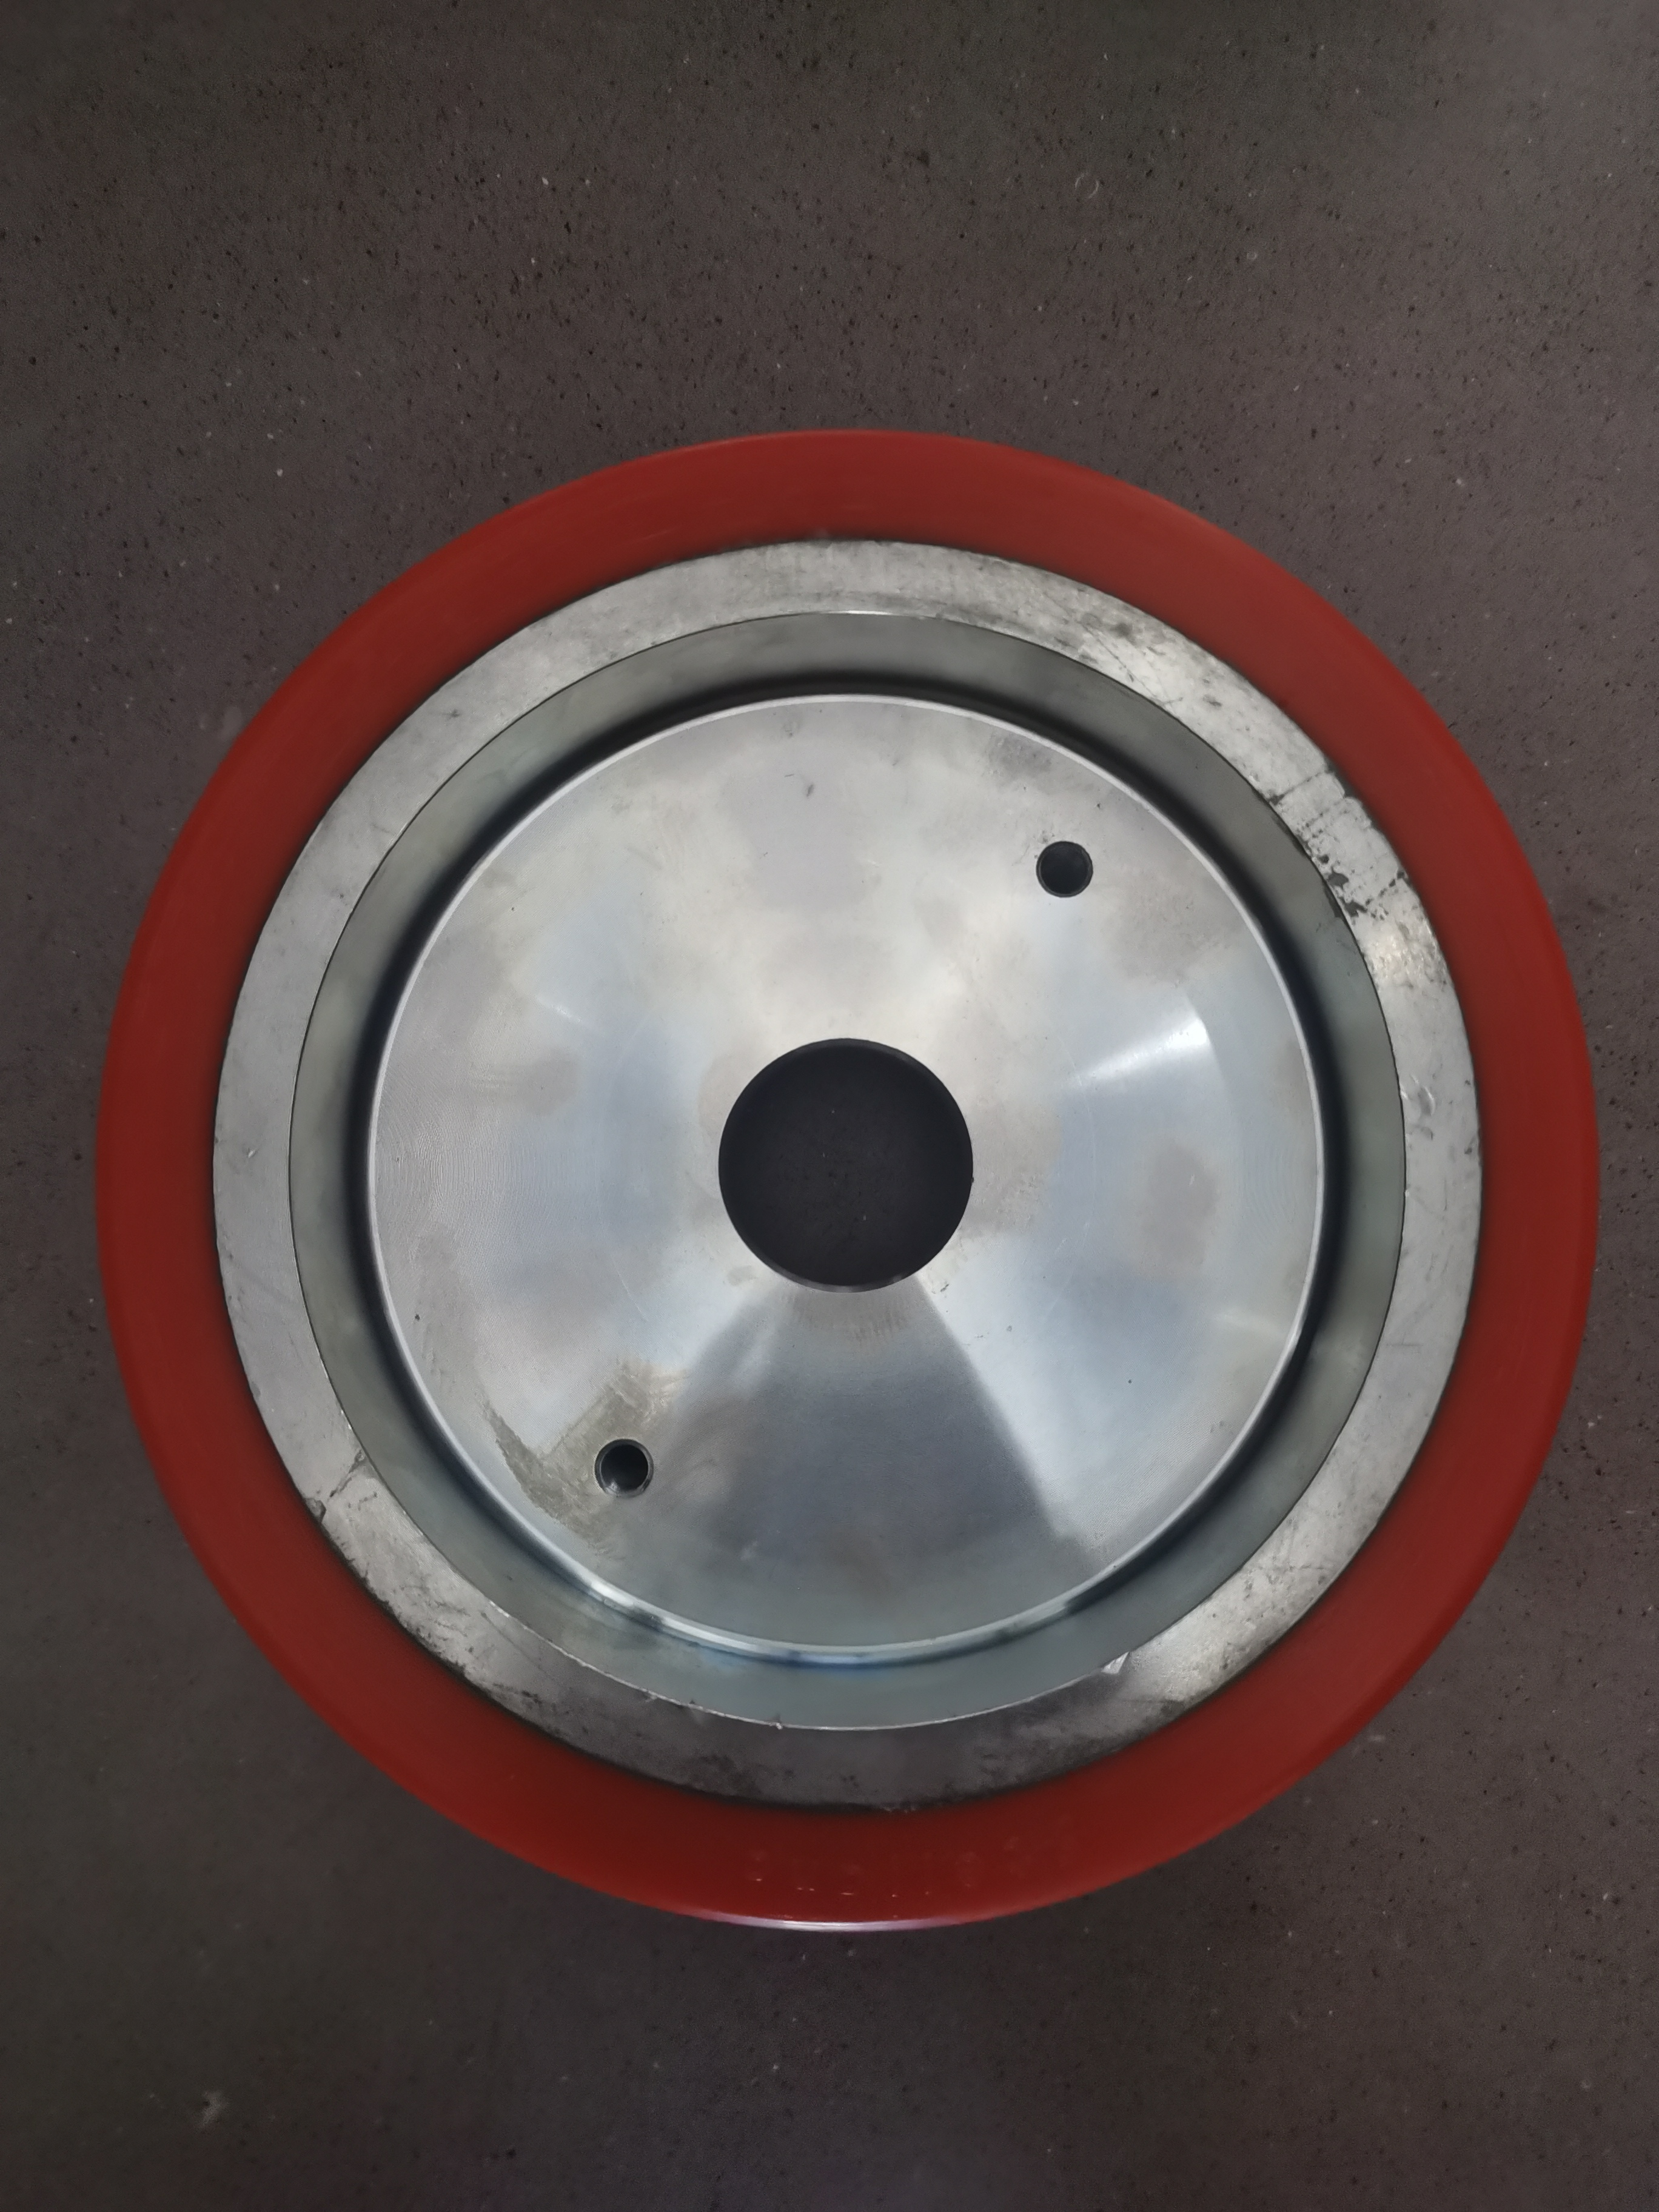good_wheel: (155, 376, 1600, 1916)
